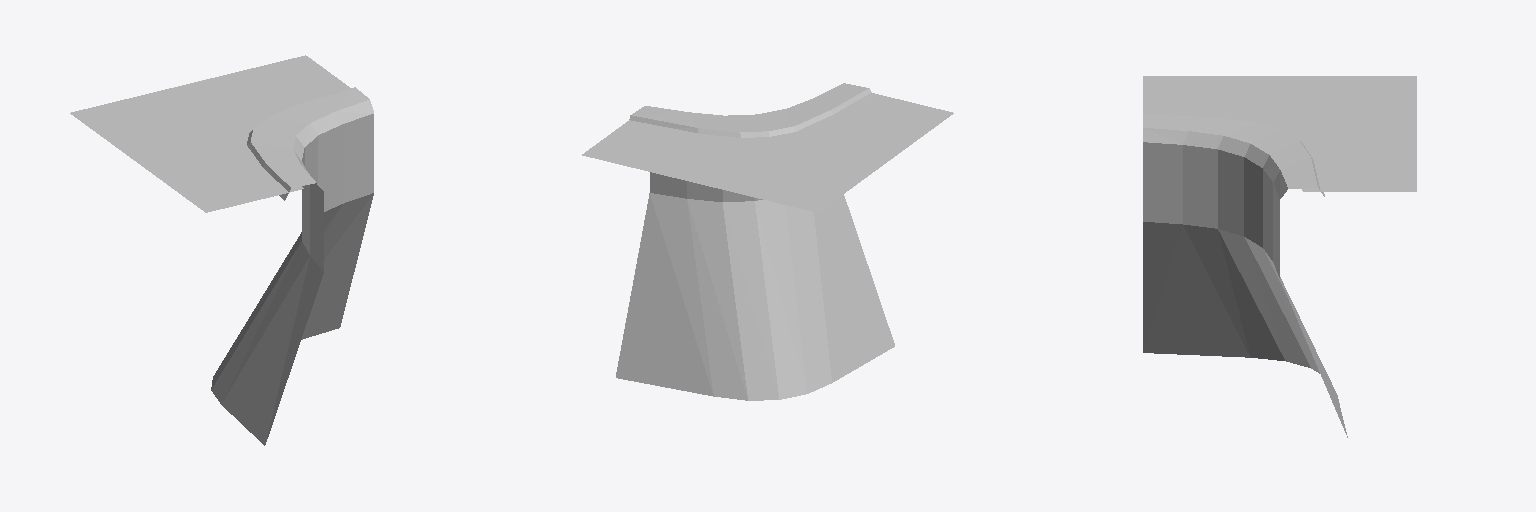
The model's file is wall_corner_concave_a.obj.
3 views of the same model, side by side, from view 1: azimuth 30°, elevation 25°; view 2: azimuth 150°, elevation 25°; view 3: azimuth 270°, elevation 25° (orthographic).
Parts seen in each view (by area): view 1: wall_corner_concave_a; view 2: wall_corner_concave_a; view 3: wall_corner_concave_a.
Part boxes in pixels (left/top/right/bottom): wall_corner_concave_a: left=70, top=55, right=373, bottom=445; wall_corner_concave_a: left=582, top=83, right=953, bottom=400; wall_corner_concave_a: left=1143, top=76, right=1416, bottom=437.
Size of the model in its own units: 400 by 406 by 400.